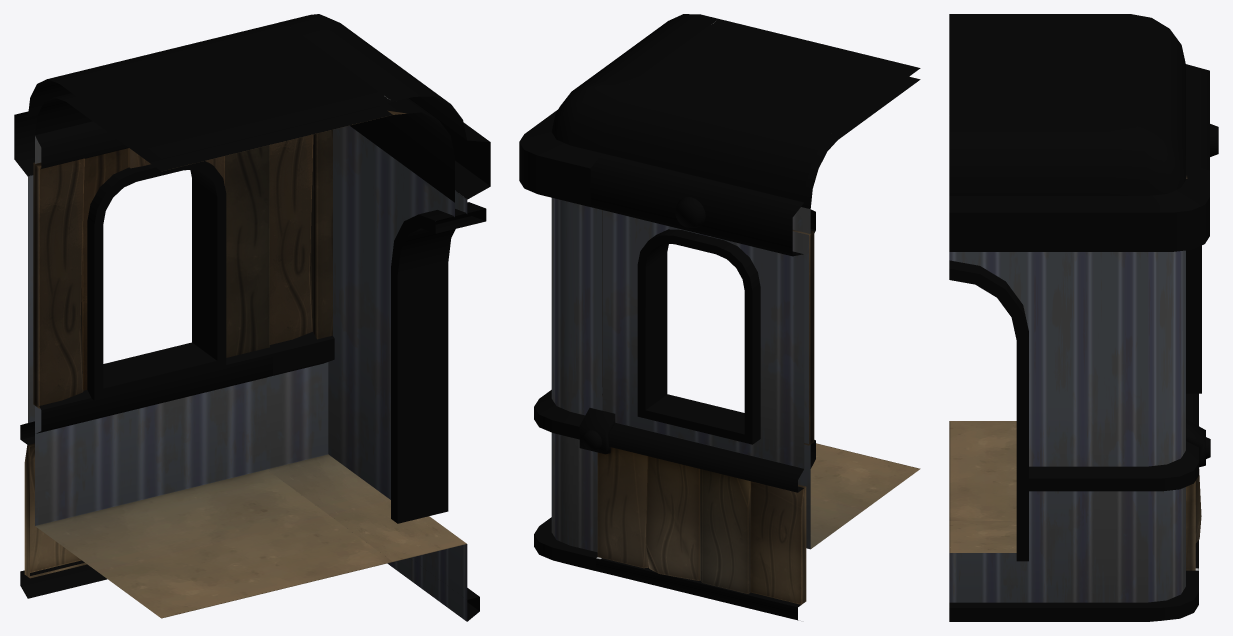
Rendered from SM_ARRIERE_D_PORTE_Train_FINAL.fbx.
3 views of the same model, side by side, from view 1: azimuth 30°, elevation 25°; view 2: azimuth 150°, elevation 25°; view 3: azimuth 270°, elevation 25° (orthographic). The views are drawn at different scales.
Visible parts, largest first — view 1: Arriere_Porte_Train_Low_FINALE1; view 2: Arriere_Porte_Train_Low_FINALE1; view 3: Arriere_Porte_Train_Low_FINALE1.
Boxes of the visible parts, x1=… form: Arriere_Porte_Train_Low_FINALE1: x1=14, y1=14, x2=490, y2=621; Arriere_Porte_Train_Low_FINALE1: x1=519, y1=14, x2=920, y2=620; Arriere_Porte_Train_Low_FINALE1: x1=949, y1=14, x2=1218, y2=621.
Bounding box in the file's own units: 2.85 × 4.44 × 2.28.
